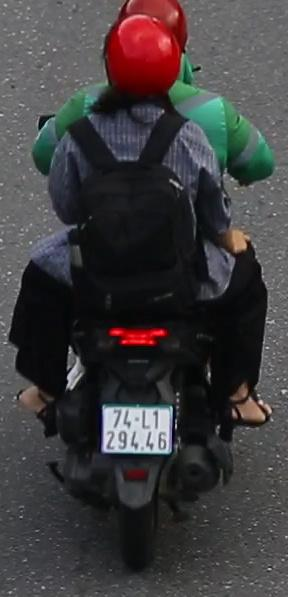LP: (98, 401, 176, 461)
helmet: (94, 14, 190, 95)
